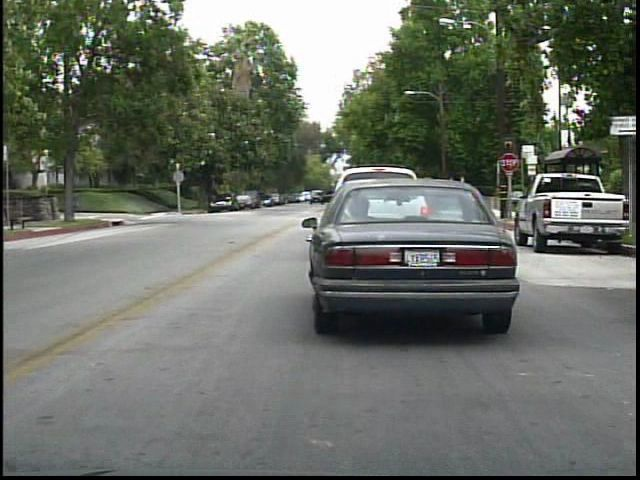person: (236, 183, 252, 210)
